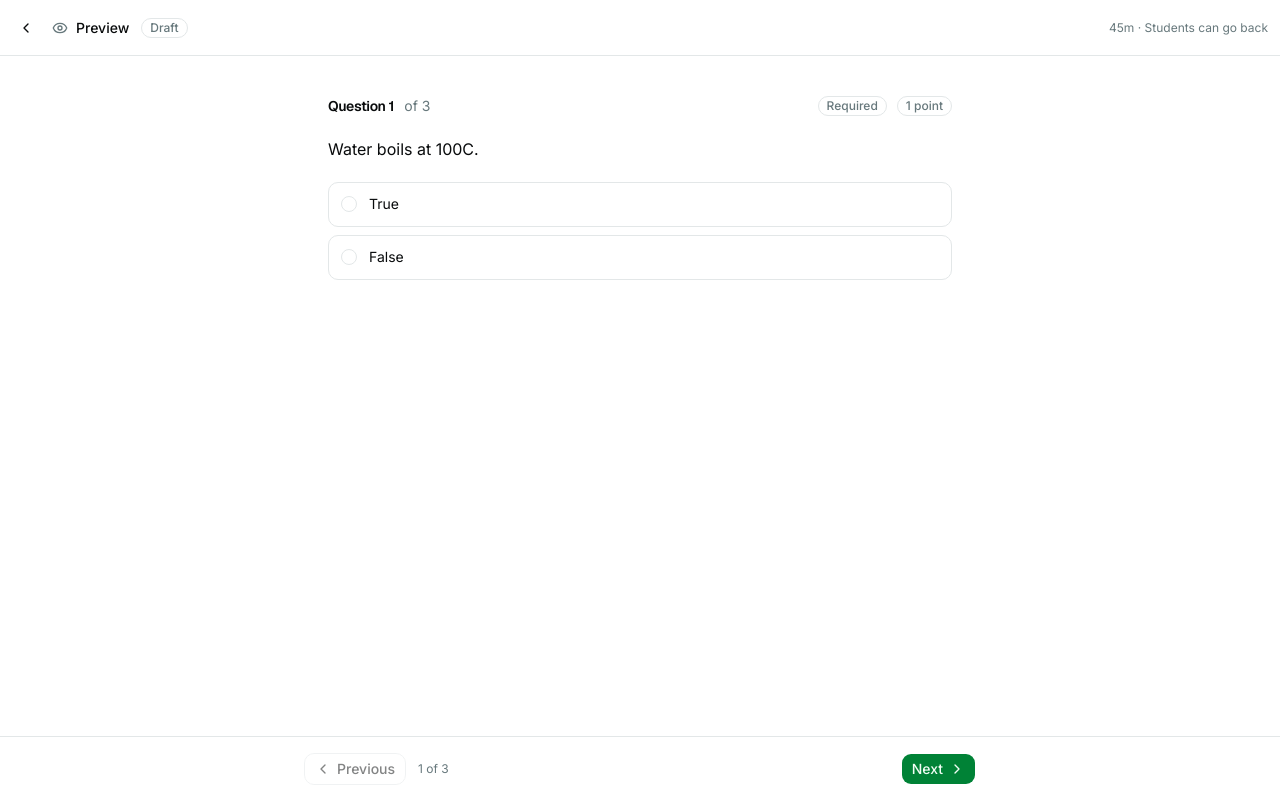
Test: one question per page › keeps an answer while paging away and back
Click the radio button labelled "True".
click(640, 204)  # box [328,182,952,227]
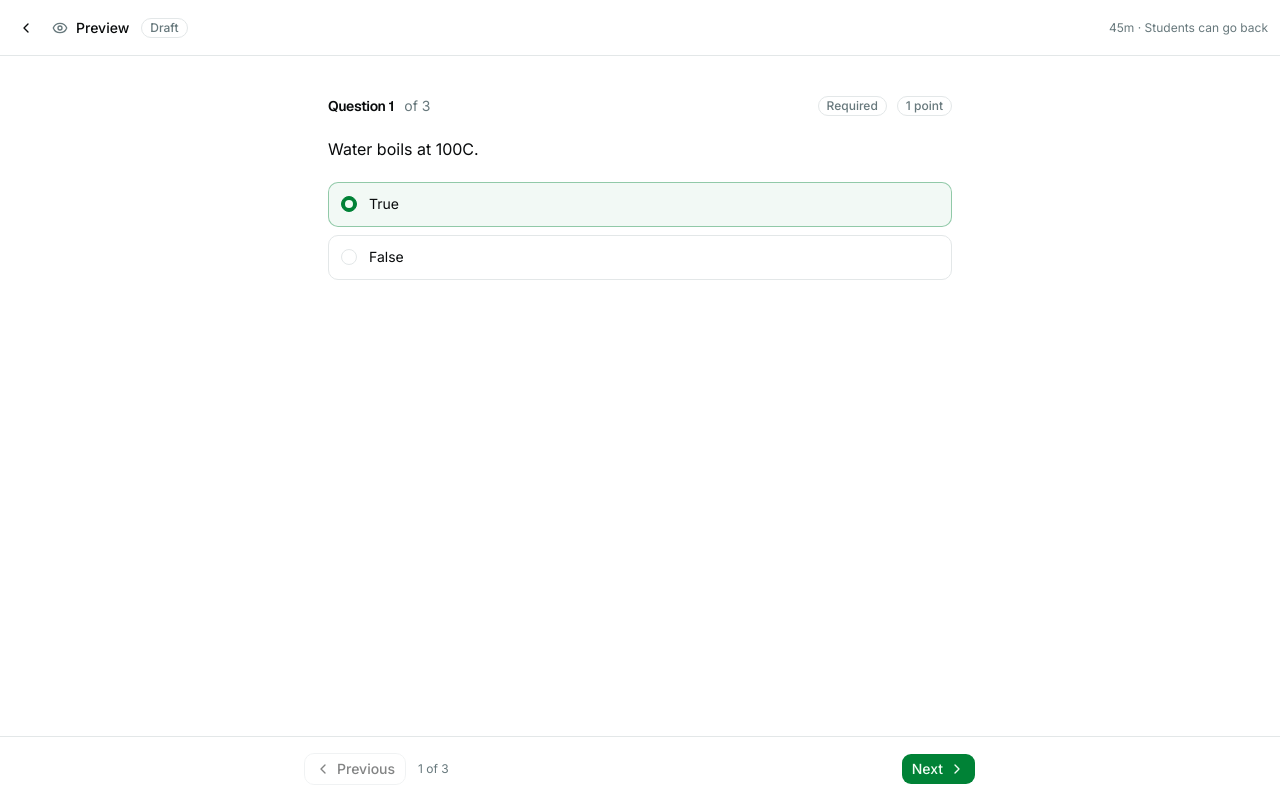
Click the button "Next".
click(938, 768)  # box [901,752,976,784]
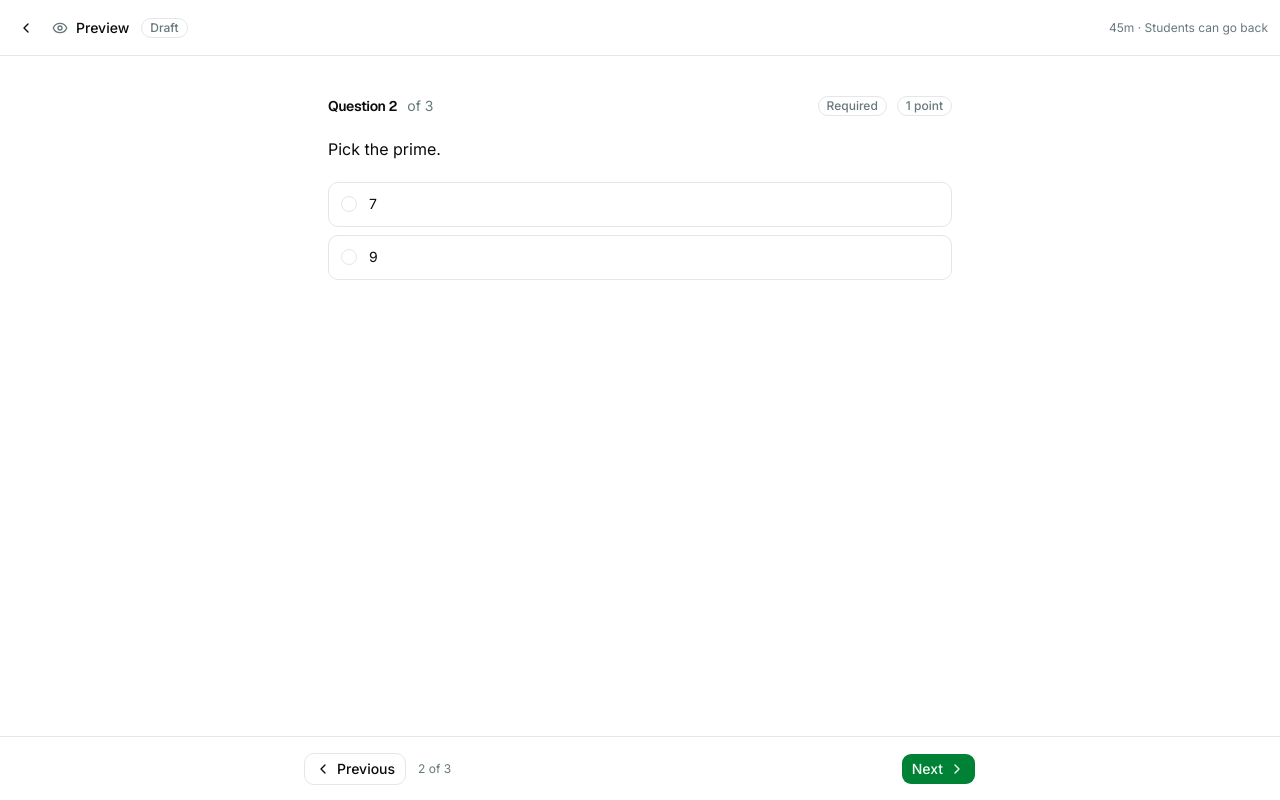
Click the button "Previous".
click(355, 768)  # box [304,752,406,784]
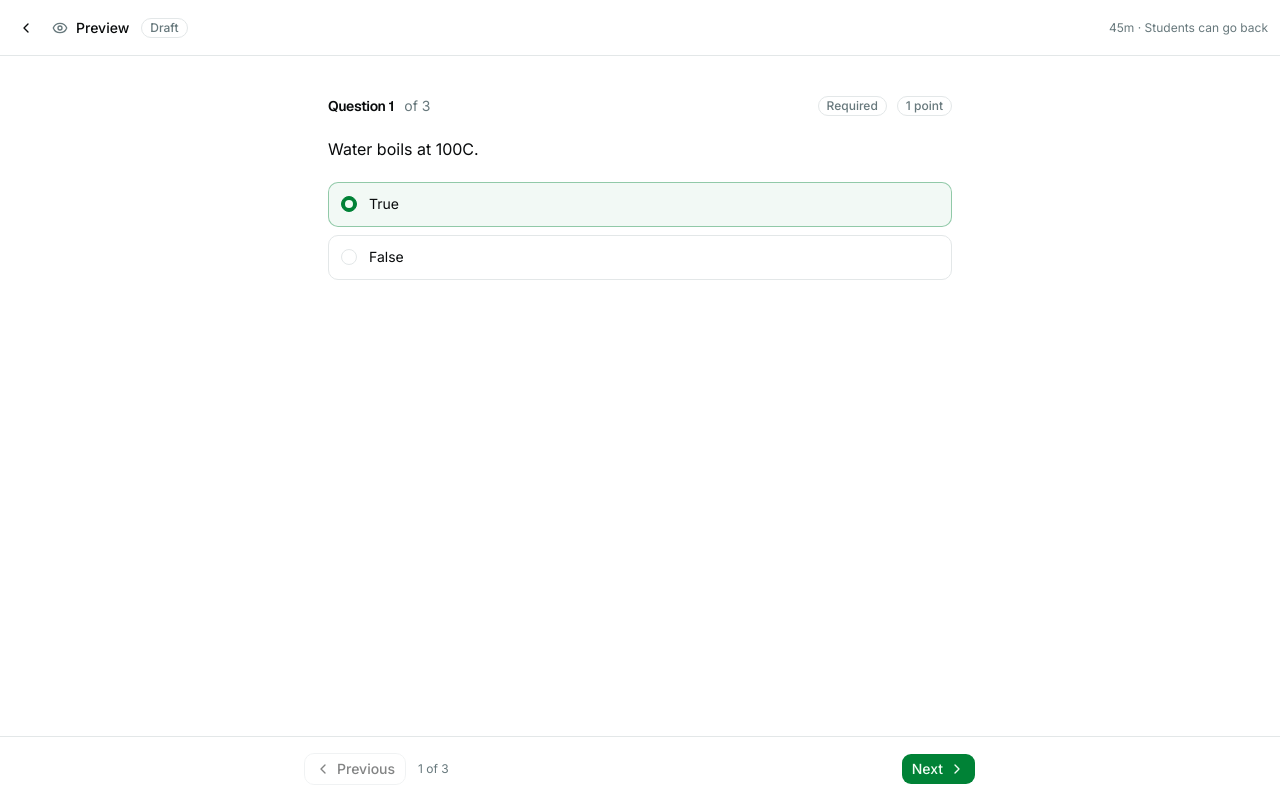
Expected: the radio button labelled "True" is checked, [328,182,952,227]
